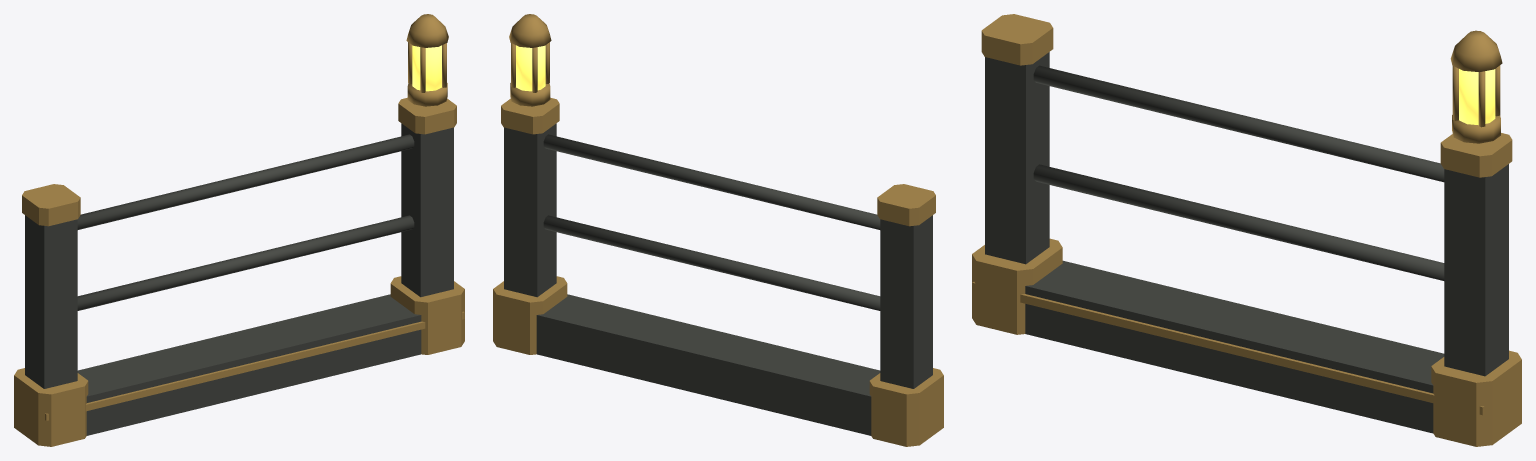
Rendered from b2_rail.glb.
The picture shows the model from 3 angles, left to right: view 1: azimuth 30°, elevation 25°; view 2: azimuth 150°, elevation 25°; view 3: azimuth 330°, elevation 25°; orthographic projection. The views are drawn at different scales.
Visible parts, largest first — view 1: b2_rail; view 2: b2_rail; view 3: b2_rail.
Part boxes in pixels (x1=…): b2_rail: x1=14, y1=14, x2=464, y2=446; b2_rail: x1=493, y1=14, x2=943, y2=446; b2_rail: x1=972, y1=14, x2=1521, y2=446.
Size of the model in its own units: 2.04 by 1.47 by 0.28.
